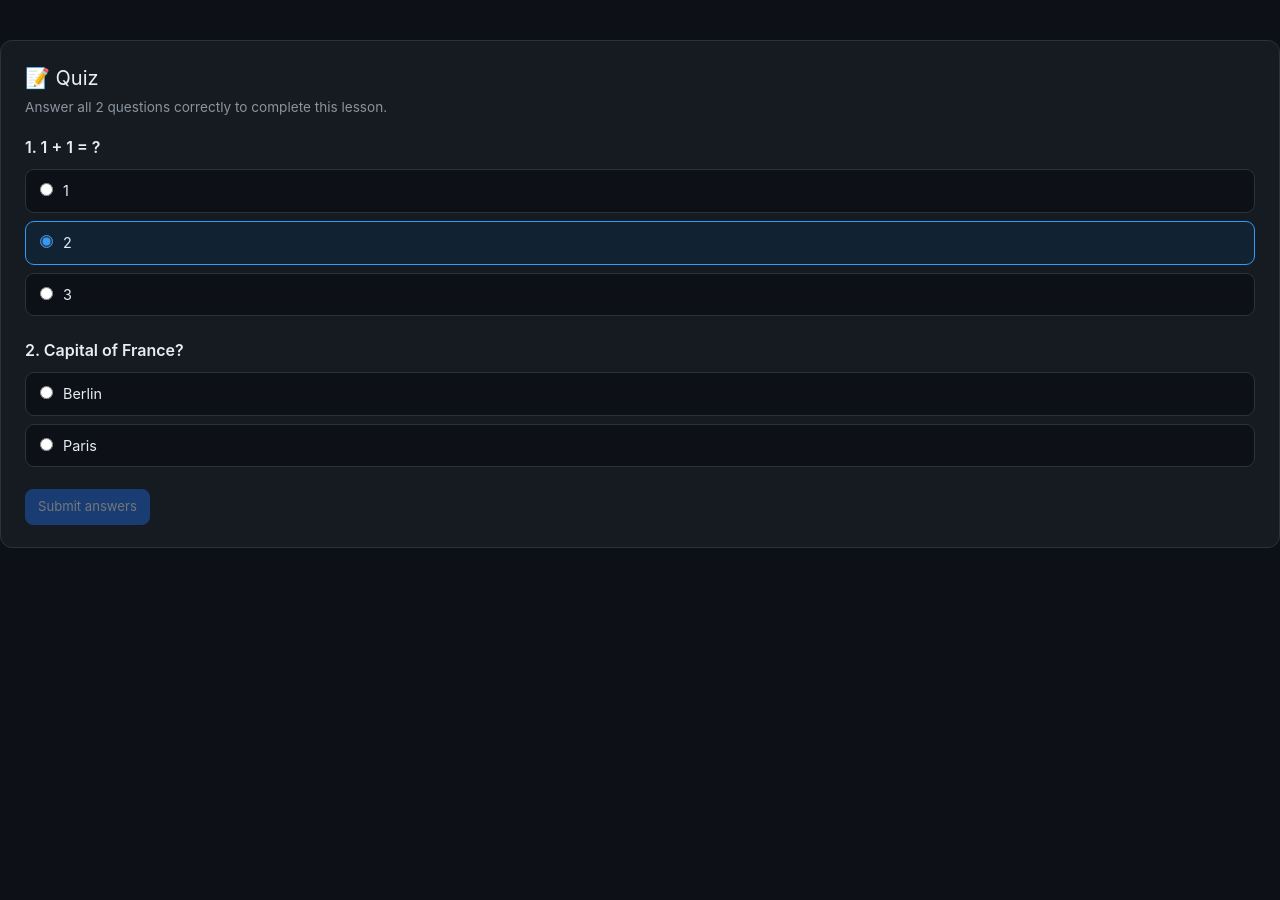
Test case: Quiz component › calls onPass only on a perfect score
Earlier steps of the test are not shown.
Click the radio button labelled "Berlin".
click(46, 393)  # box x1=40 y1=386 x2=53 y2=399
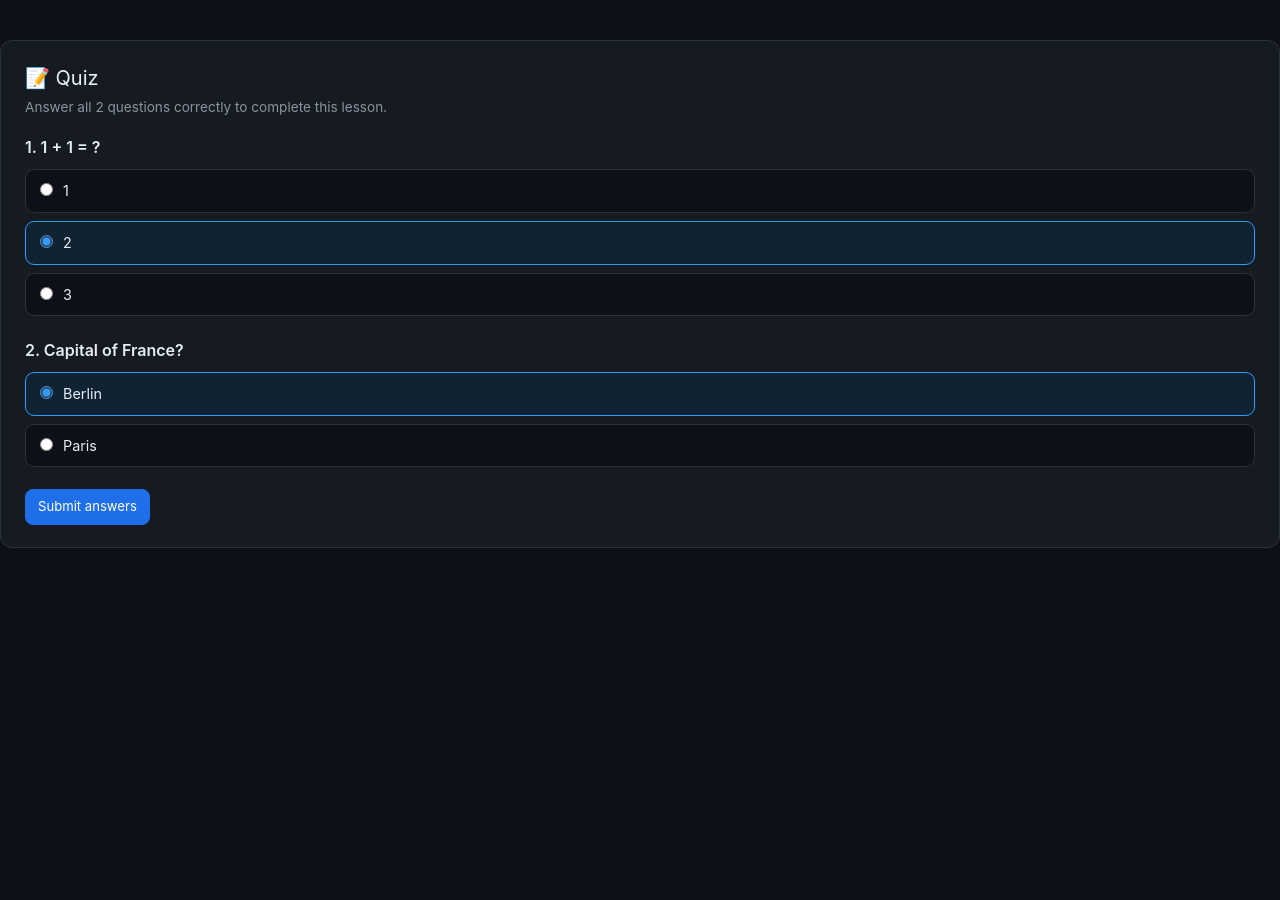
Click the button "Submit answers".
click(87, 507)  # box x1=25 y1=489 x2=150 y2=525
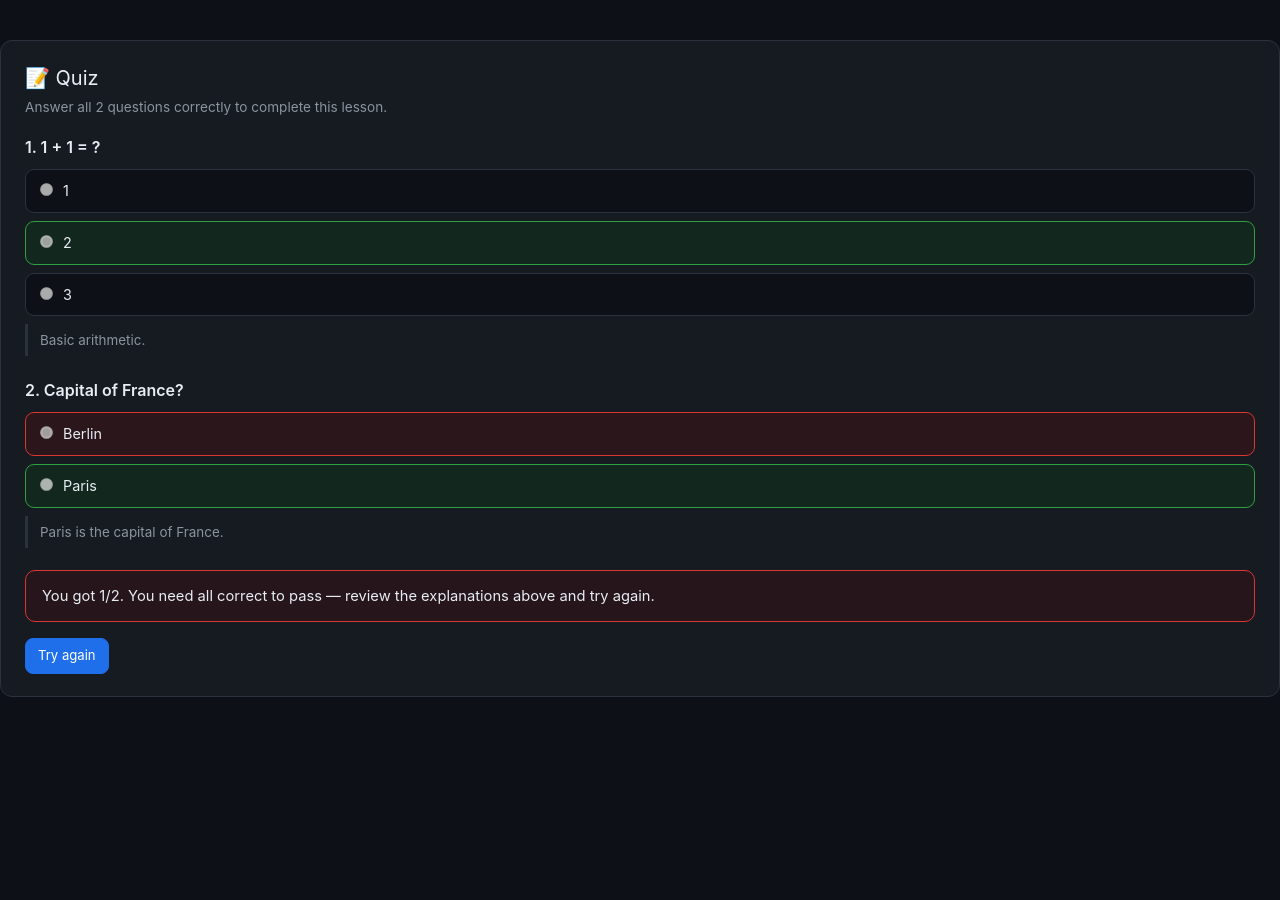
Now the text "You got 1/2" is shown, box x1=25 y1=570 x2=1255 y2=622
# Retry and answer everything correctly.
Click the button "Try again".
click(67, 656)  # box x1=25 y1=638 x2=109 y2=674
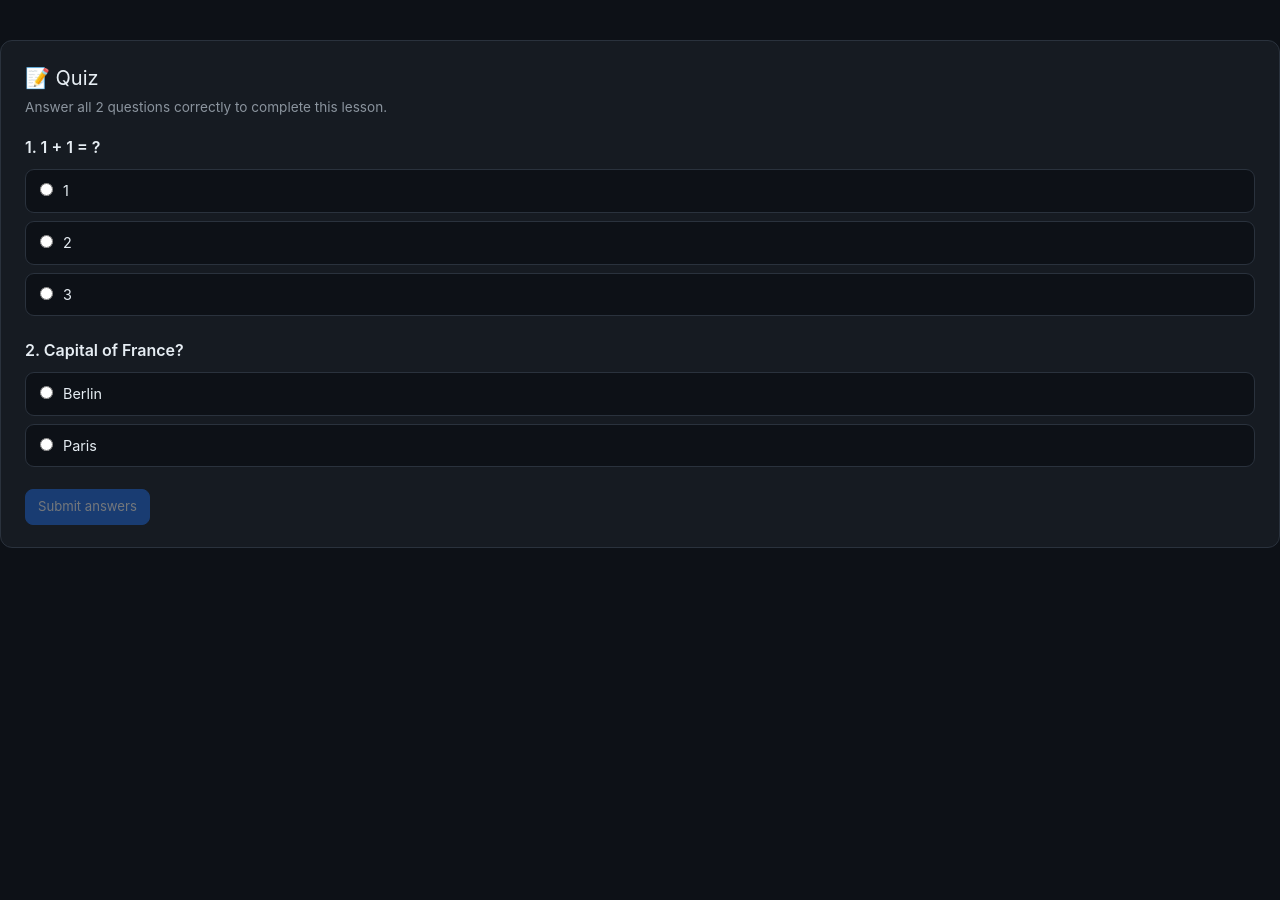
Click the radio button labelled "2".
click(46, 242)  # box x1=40 y1=235 x2=53 y2=248
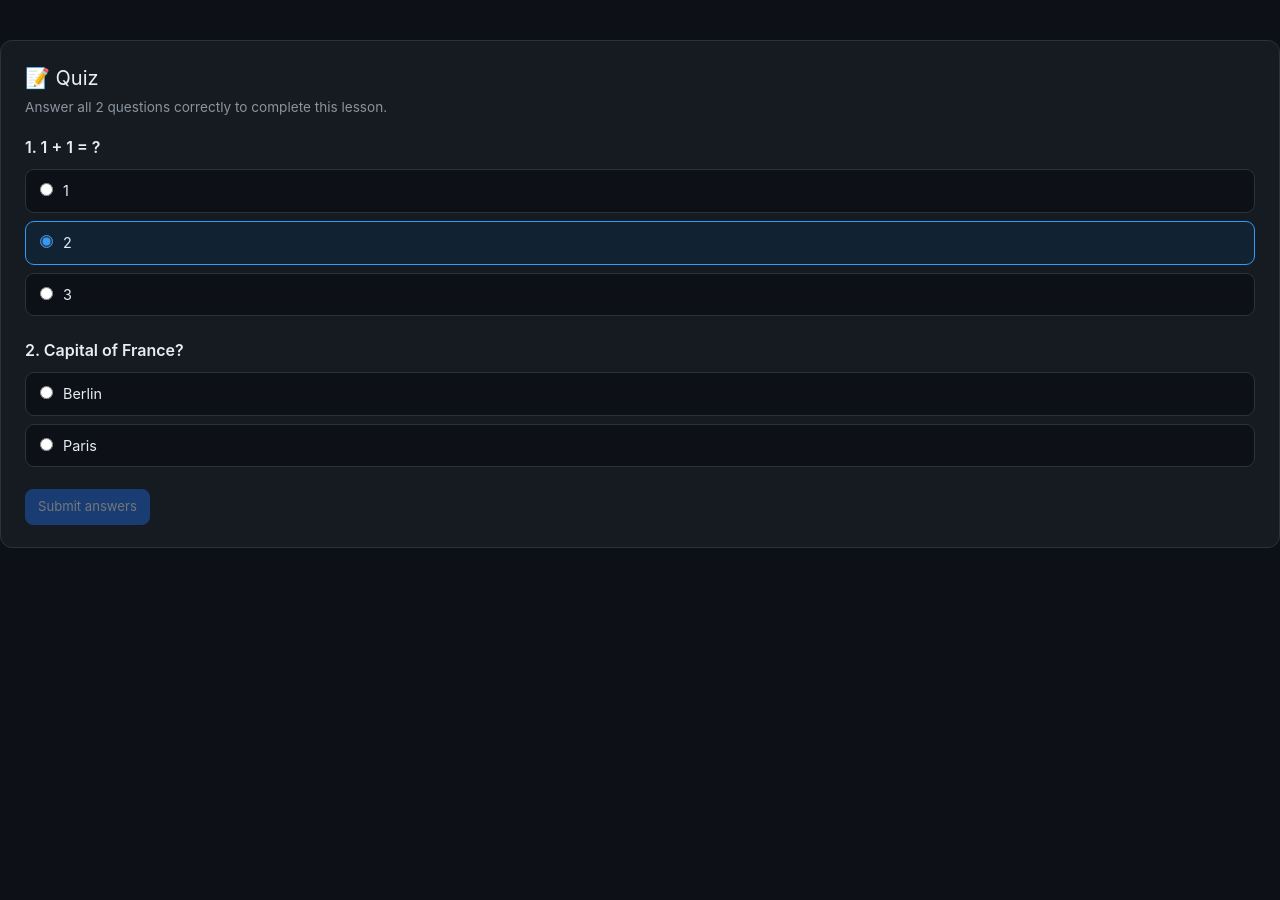
Click the radio button labelled "Paris".
click(46, 444)  # box x1=40 y1=438 x2=53 y2=451
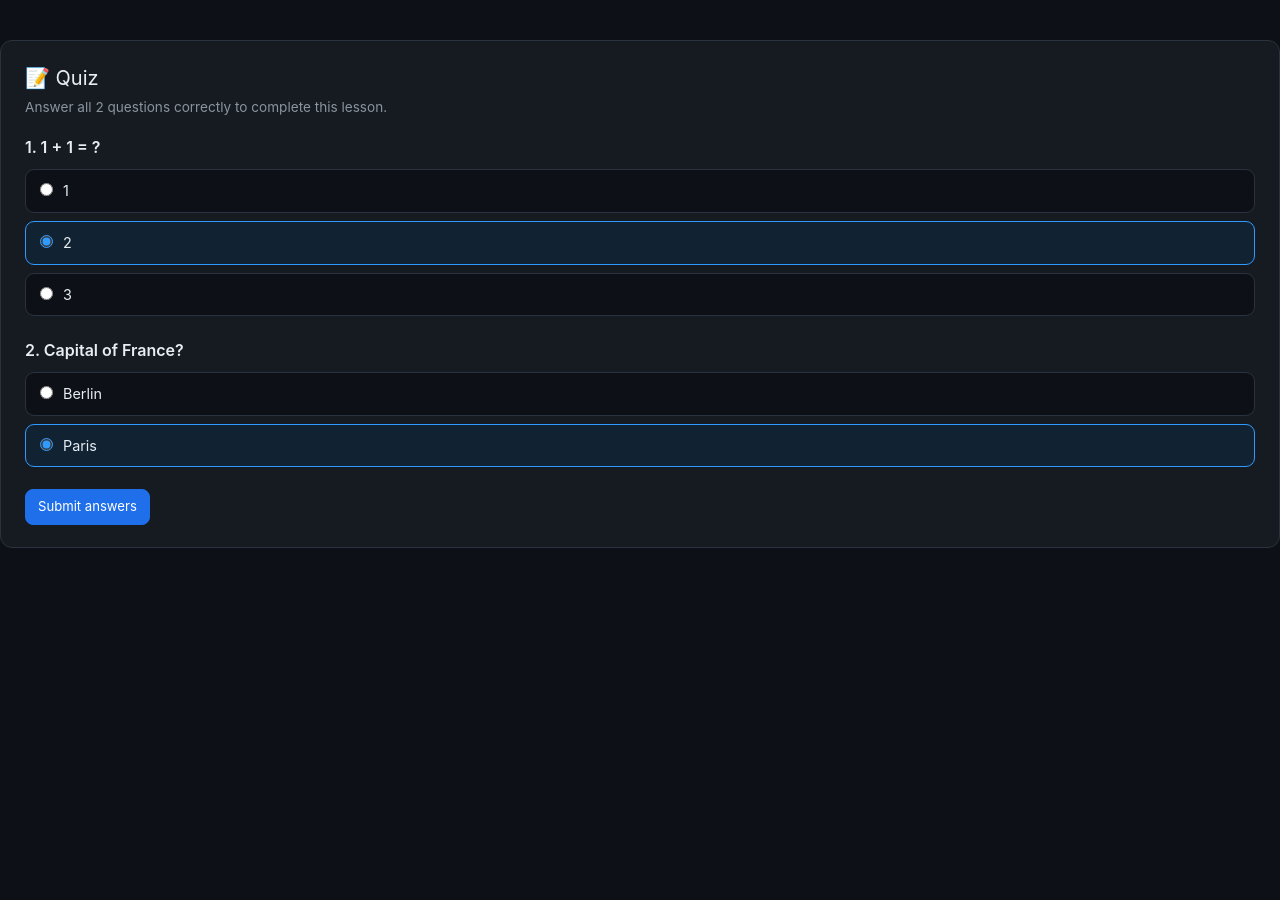
Click the button "Submit answers".
click(87, 507)  # box x1=25 y1=489 x2=150 y2=525
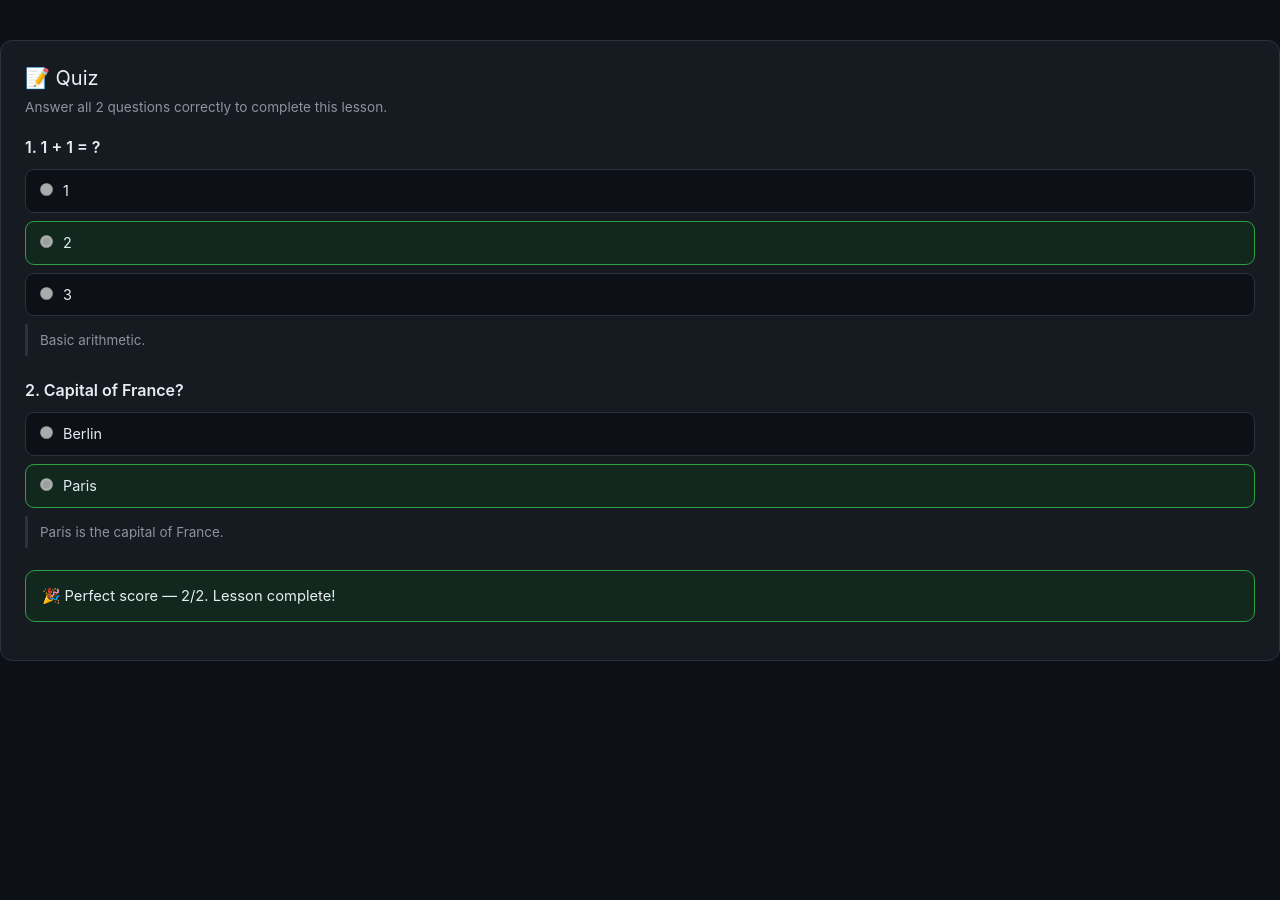
Now the text "🎉 Perfect score — 2/2. Lesson complete!" is shown, box x1=25 y1=570 x2=1255 y2=622
